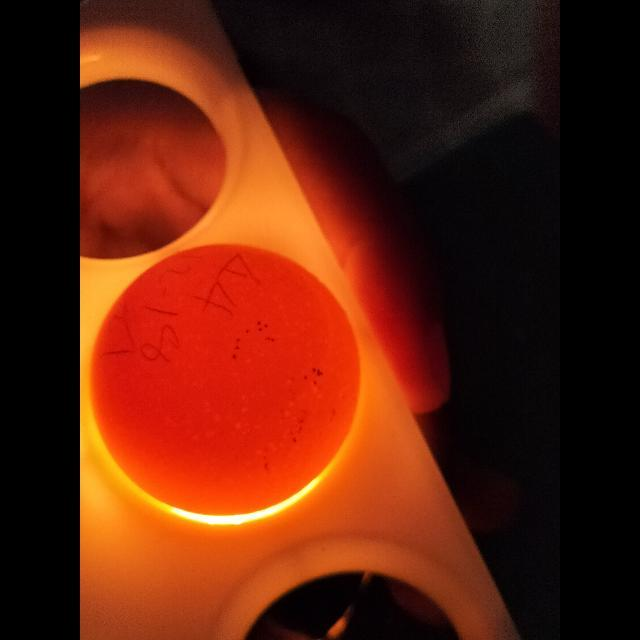Infertile: (90, 225, 360, 513)
